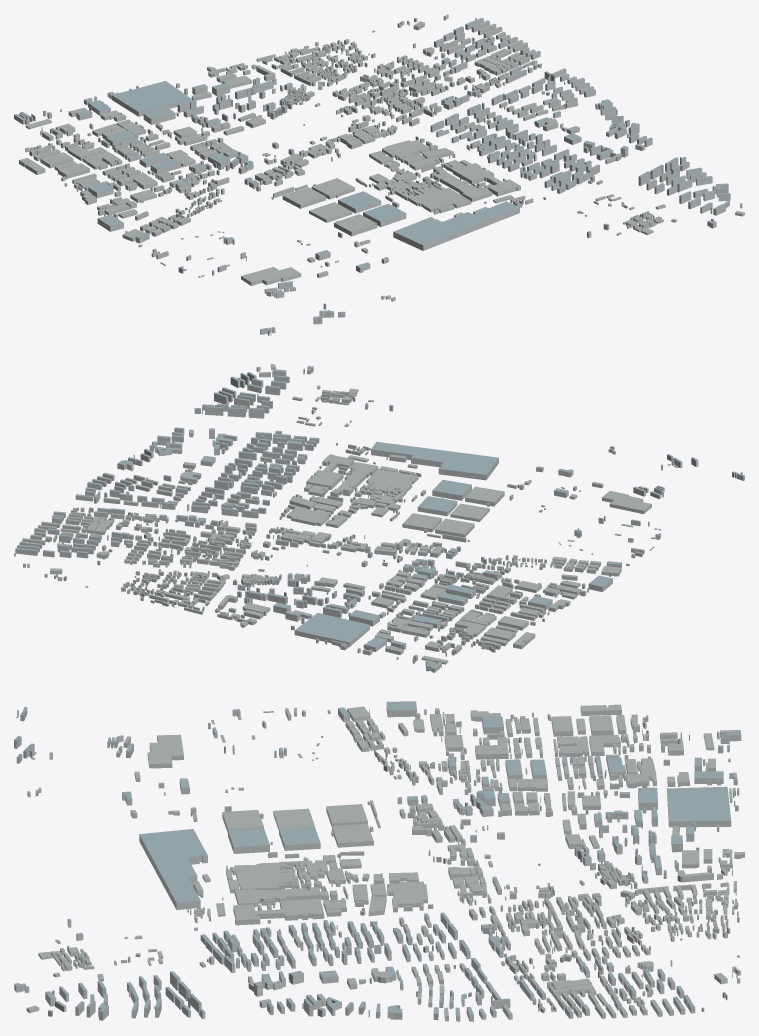
Rendered from far.glb.
3 renders of one model, top to bottom at view 1: azimuth 30°, elevation 25°; view 2: azimuth 150°, elevation 25°; view 3: azimuth 270°, elevation 25°, orthographic. The views are drawn at different scales.
Bounding box in the file's own units: 2147 × 36.7 × 2114.
